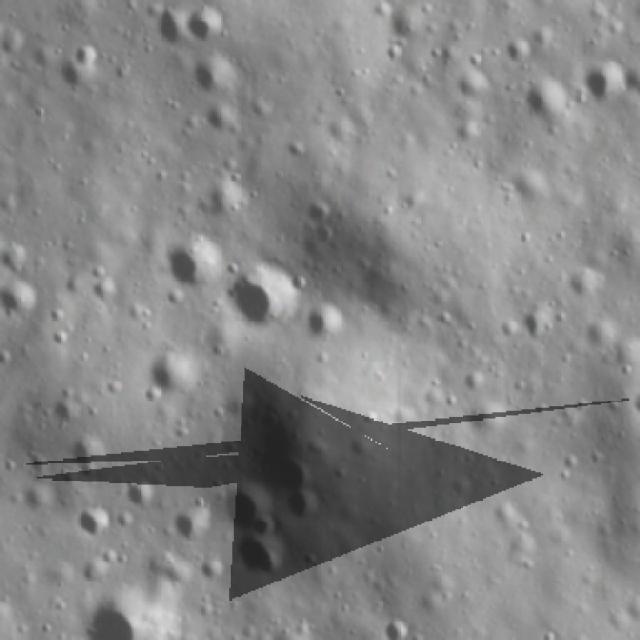crater: (227, 253, 298, 341), (160, 231, 229, 292), (226, 534, 292, 595), (516, 74, 573, 132), (193, 52, 256, 103), (210, 478, 268, 528), (67, 428, 111, 484), (300, 302, 352, 344), (149, 352, 191, 402), (586, 57, 636, 98), (65, 502, 113, 541), (186, 7, 226, 47), (518, 309, 558, 348), (1, 281, 36, 325), (123, 477, 160, 514), (3, 239, 29, 281)
